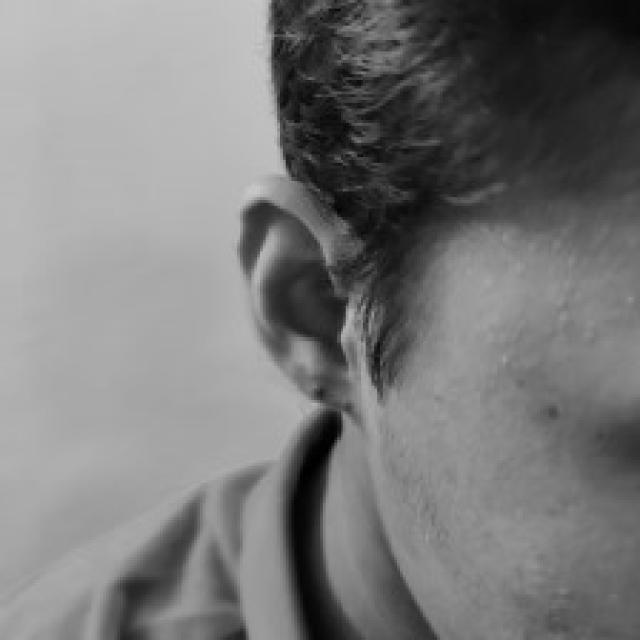ear: (237, 177, 346, 406)
